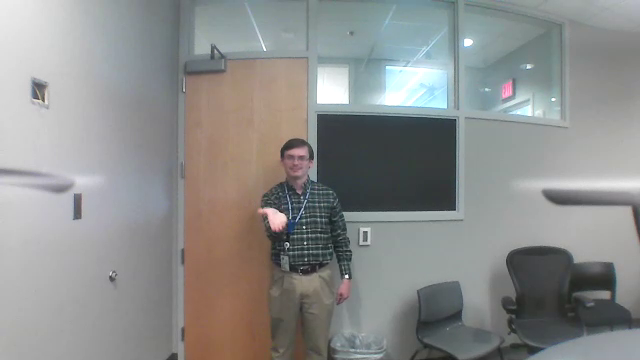land: (255, 204, 288, 232)
